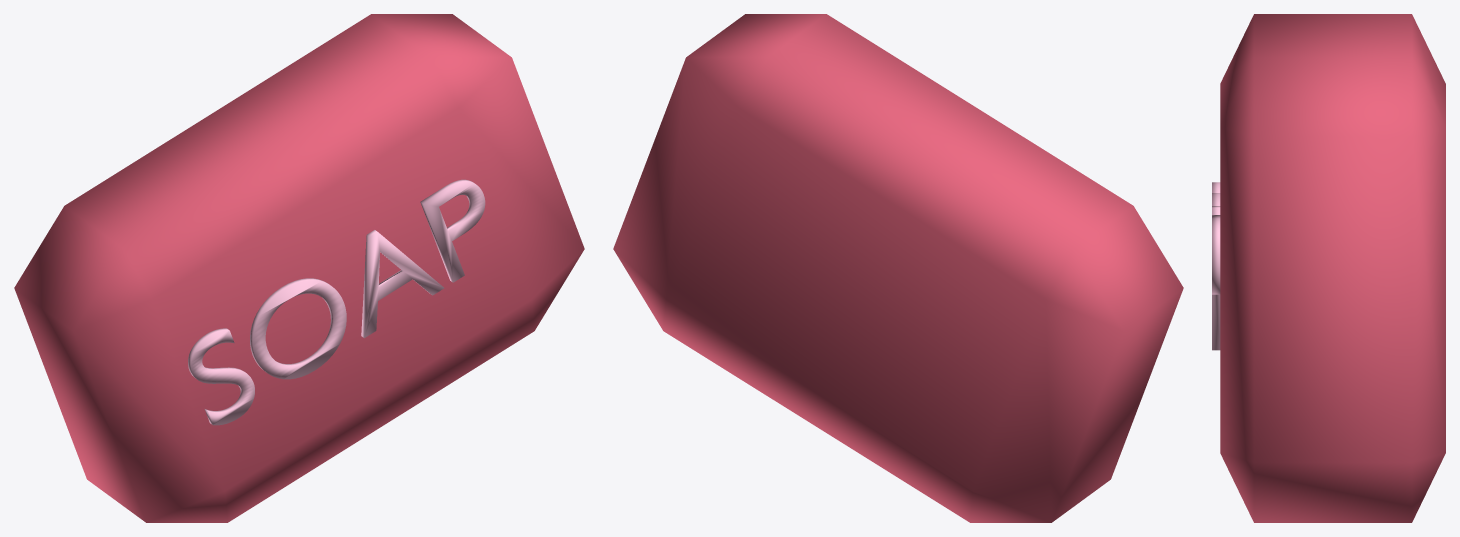
File: SOAP.fbx
3 renders of one model, left to right at view 1: azimuth 30°, elevation 25°; view 2: azimuth 150°, elevation 25°; view 3: azimuth 270°, elevation 25°, orthographic. The views are drawn at different scales.
Parts seen in each view (by area): view 1: SOAP; view 2: SOAP; view 3: SOAP.
Part boxes in pixels (box(x1,y1,x2,y2)): SOAP: box(14, 14, 584, 522); SOAP: box(613, 14, 1183, 522); SOAP: box(1212, 14, 1445, 522).
Bounding box in the file's own units: 71.9 × 55.9 × 21.4.
